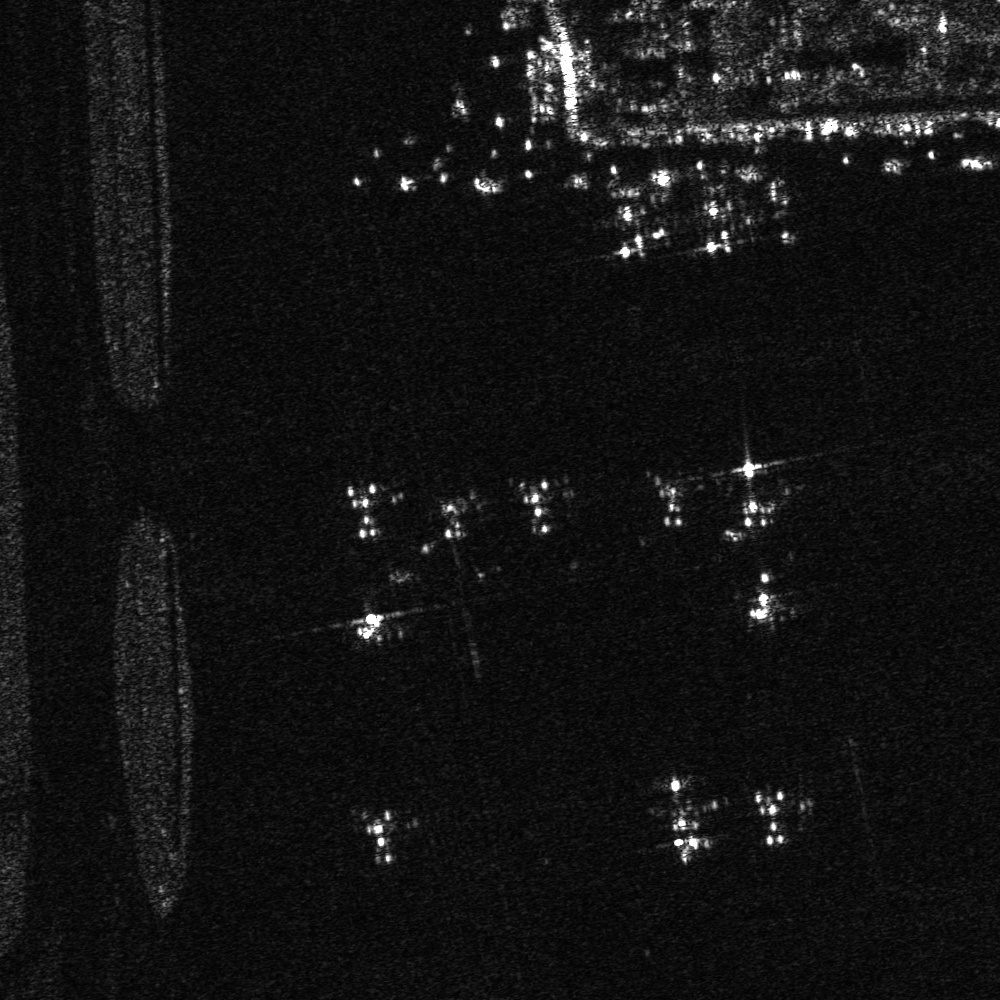A220: (742, 779, 802, 853)
ARJ21: (352, 798, 406, 873), (740, 565, 793, 636), (757, 163, 800, 245), (347, 598, 403, 644)
Boeing737: (592, 176, 680, 262)
other: (639, 767, 736, 868), (718, 444, 795, 550), (689, 172, 755, 255), (415, 487, 492, 557), (338, 471, 385, 549), (517, 478, 565, 547), (647, 474, 695, 540)
